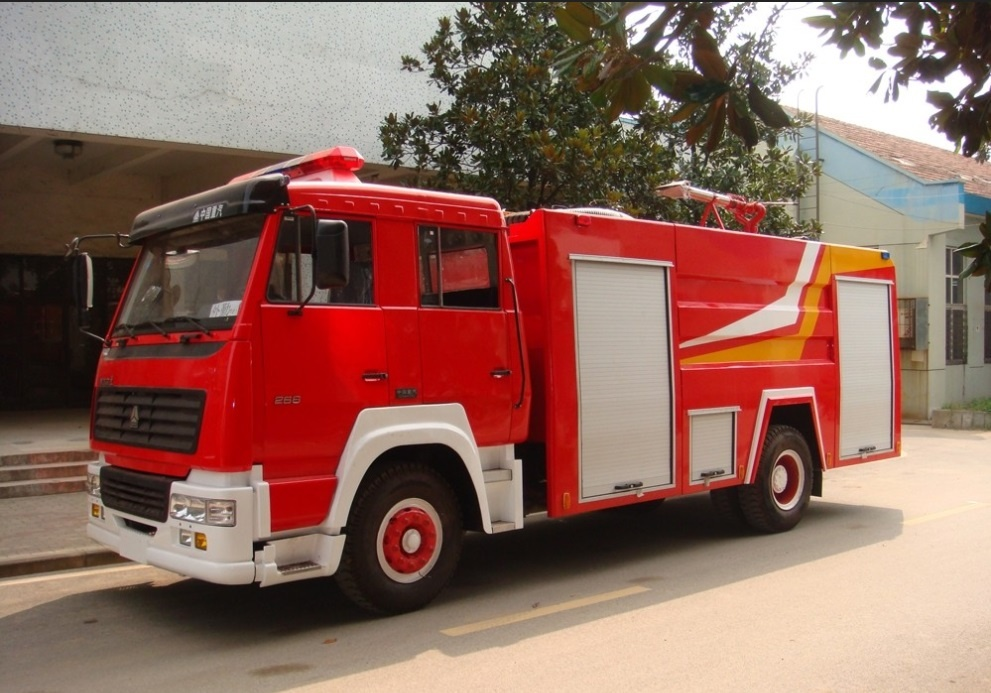fire engine: (66, 134, 919, 601)
